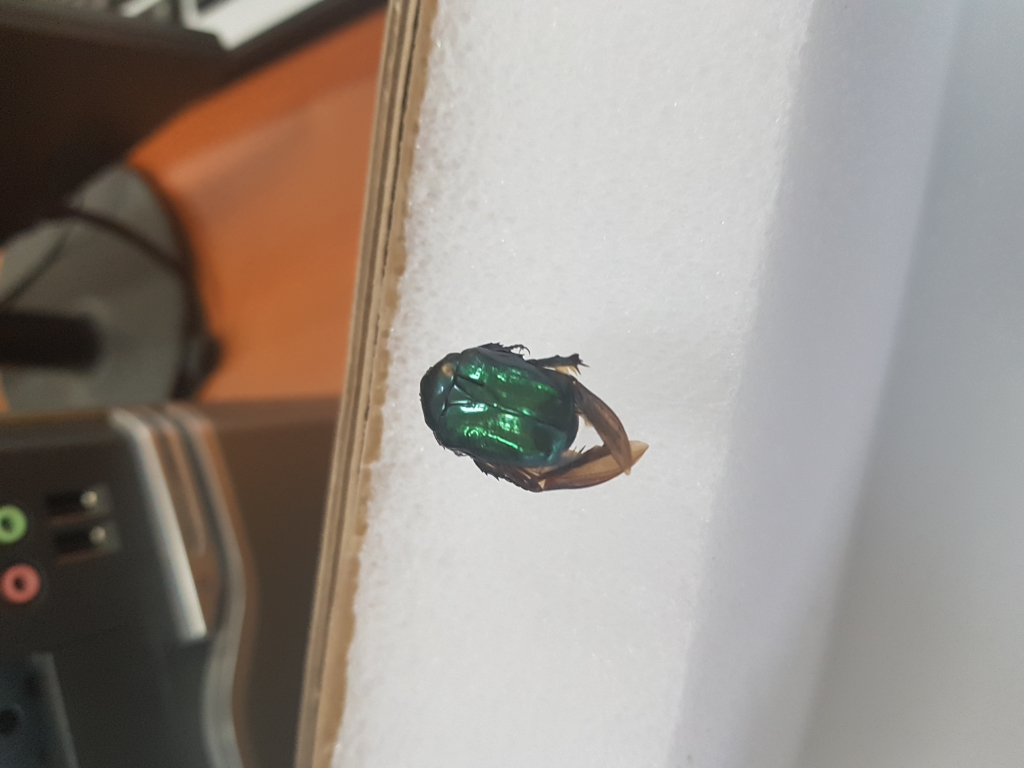Protaetia_angustata_angustata: (414, 335, 654, 500)
